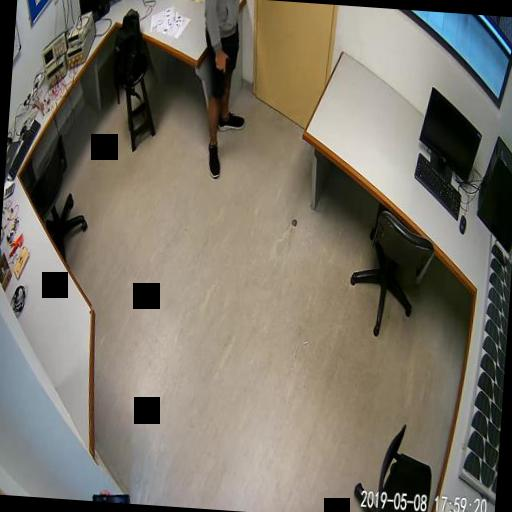Handgun: (211, 50, 231, 96)
